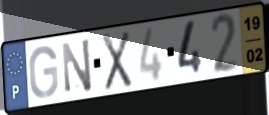2: (209, 9, 240, 80)
4: (176, 18, 207, 80), (138, 25, 167, 85)
G: (27, 44, 60, 100)
N: (60, 36, 94, 95)
X: (101, 29, 133, 94)
